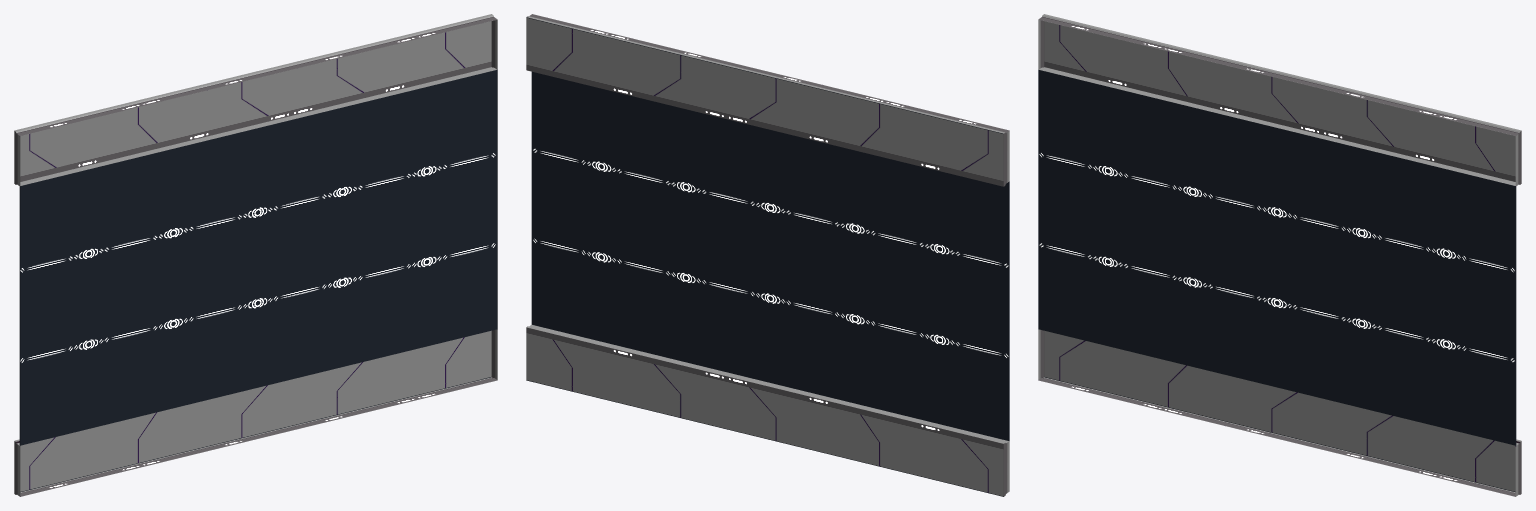
The model's file is SM_M_Road2.fbx.
3 views of the same model, side by side, from view 1: azimuth 30°, elevation 25°; view 2: azimuth 150°, elevation 25°; view 3: azimuth 330°, elevation 25° (orthographic).
Parts seen in each view (by area): view 1: SM_M_Road2; view 2: SM_M_Road2; view 3: SM_M_Road2.
Part boxes in pixels (x1,y1,x2,y2): SM_M_Road2: (14,14,497,496); SM_M_Road2: (526,14,1009,496); SM_M_Road2: (1038,14,1521,496).
Size of the model in its own units: 5418 by 3938 by 119.
